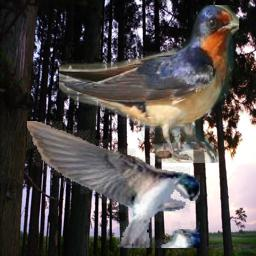Swallow: (59, 5, 239, 163), (27, 121, 200, 248)
